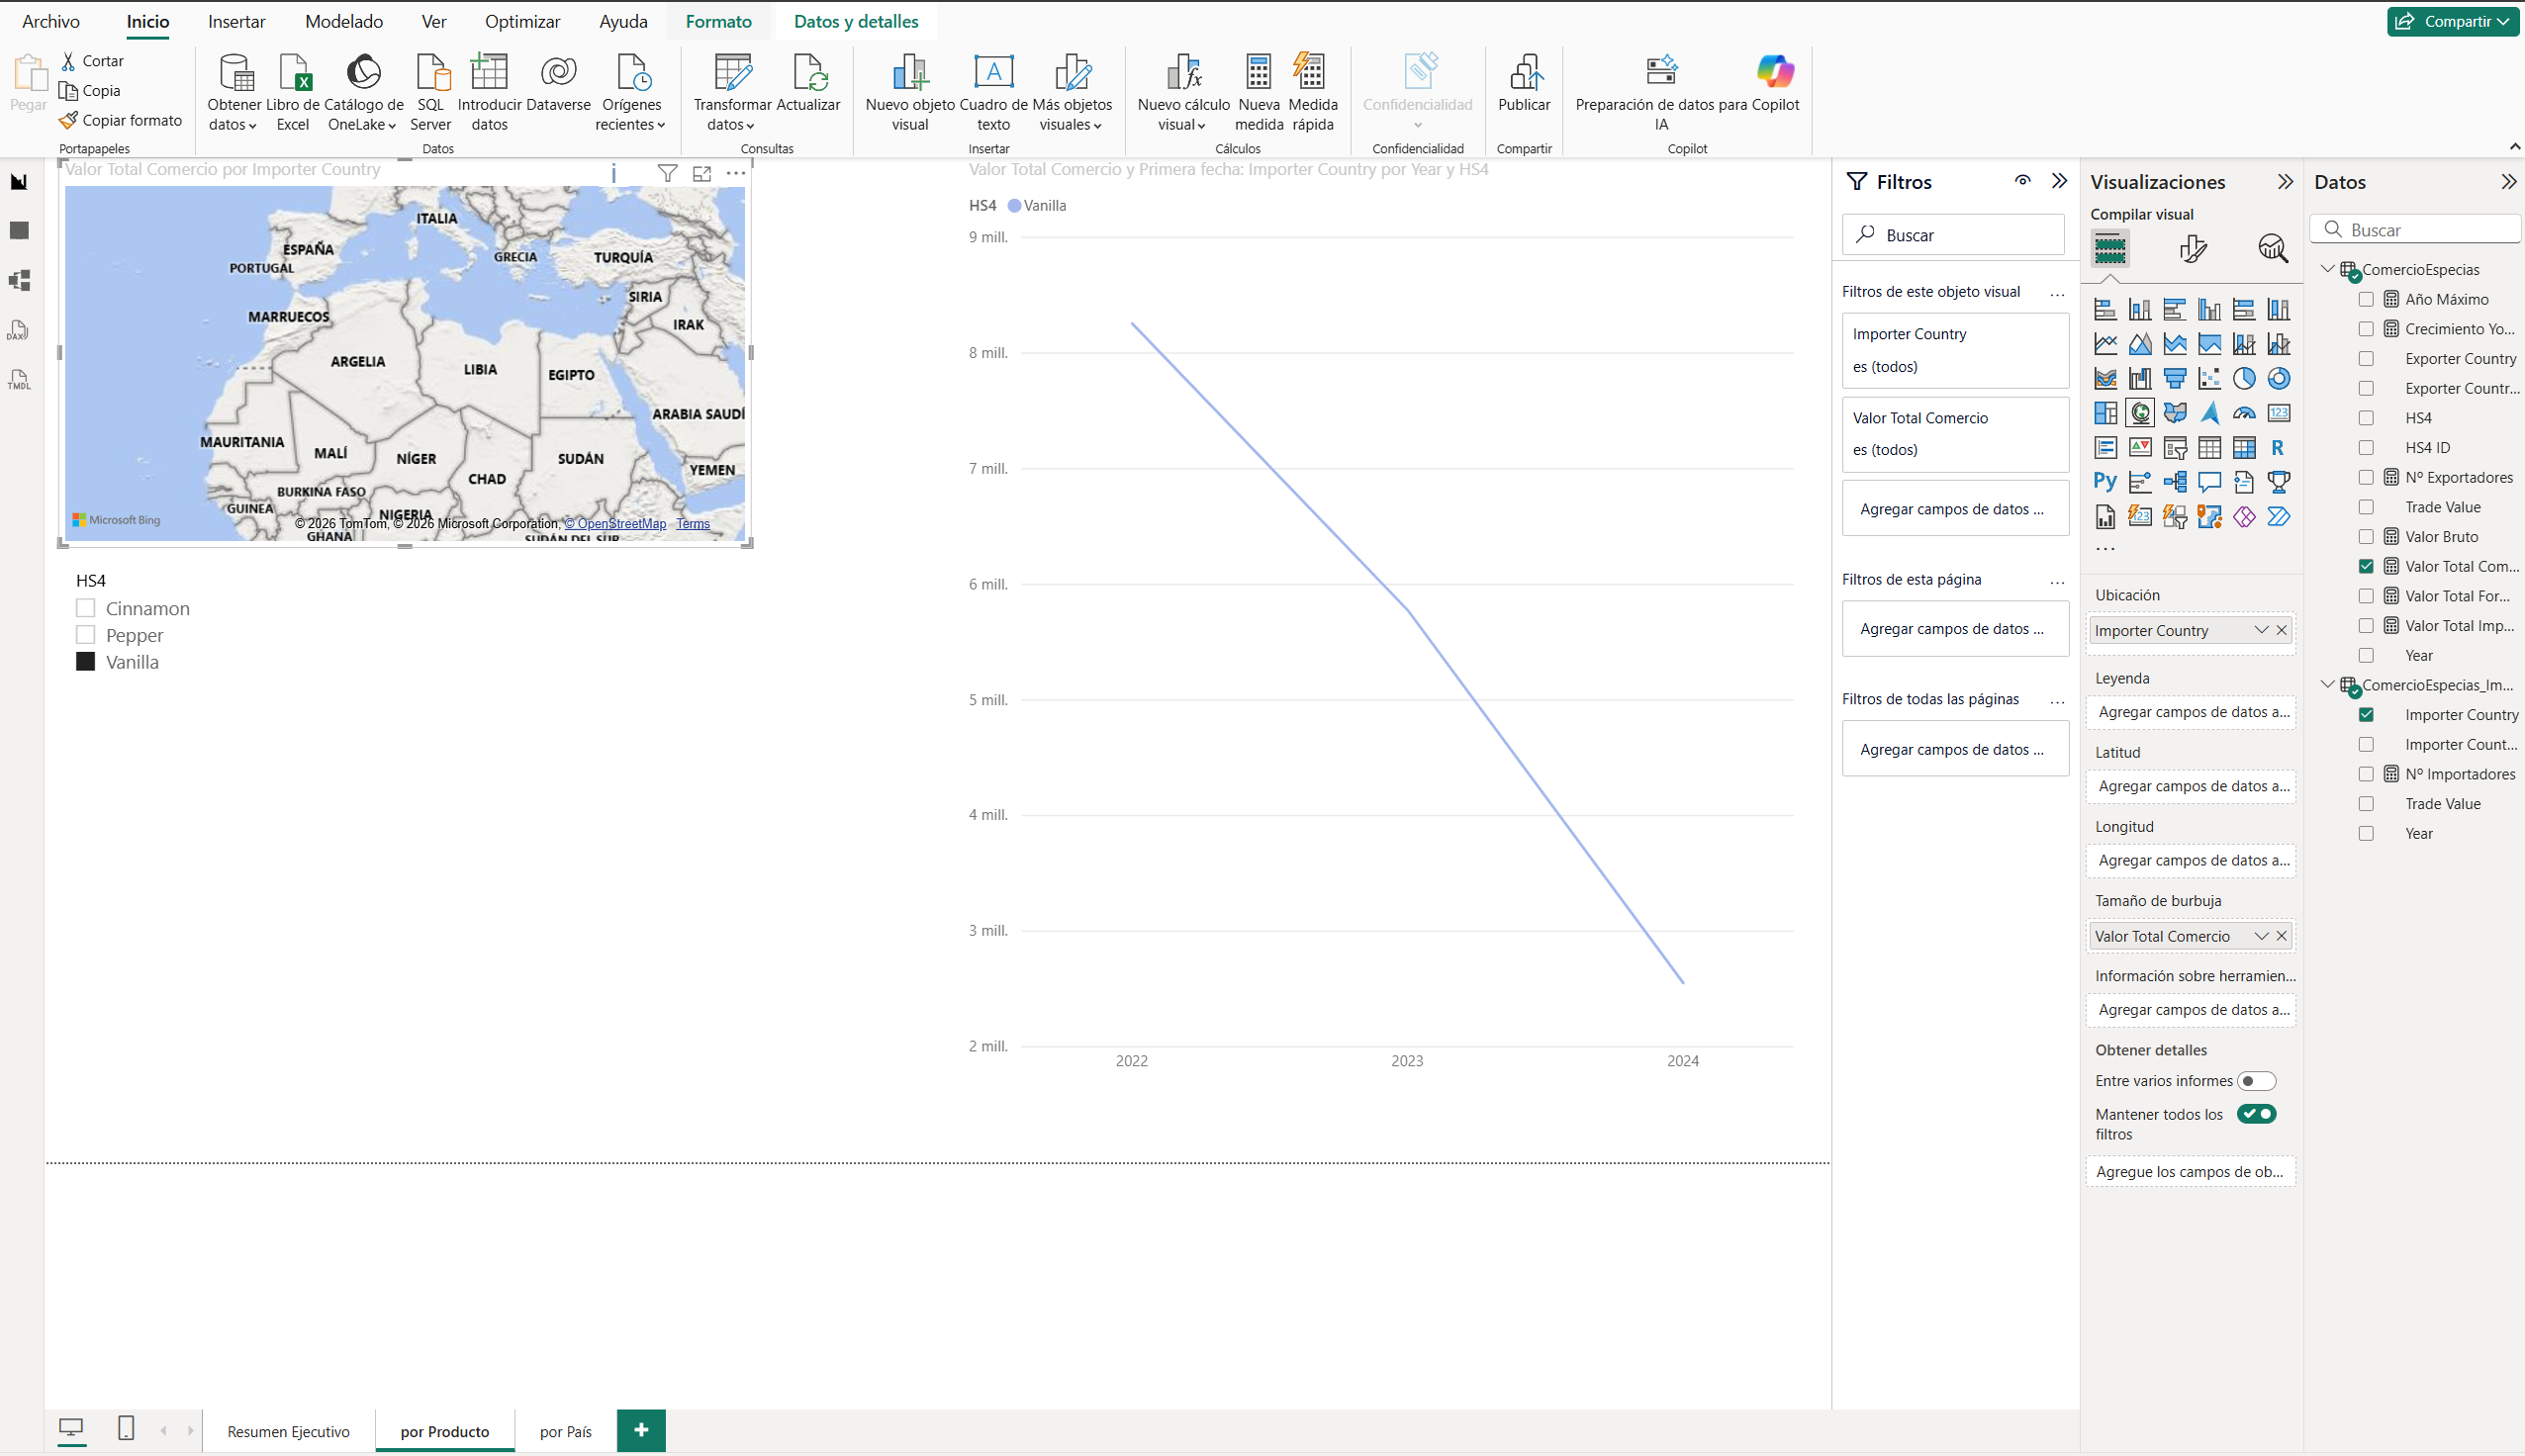

What the dashboard file says about the page in this screenshot:
{"tool":"powerbi","page":{"name":"por Producto","canvas":[1280,720],"ordinal":1},"visuals":[{"type":"map","fields":{"Category":["ComercioEspecias_Import (2).Importer Country"],"Size":["ComercioEspecias.Valor Total Comercio"]},"box":[9.7,0,497.2,279.6],"z":0},{"type":"slicer","fields":{"Values":["ComercioEspecias.HS4"]},"box":[10.1,290,630.3,326.2],"z":1000},{"type":"lineChart","fields":{"Category":["ComercioEspecias.Year"],"Y":["ComercioEspecias.Valor Total Comercio"],"Series":["ComercioEspecias.HS4"]},"box":[657.8,0,600.7,664.6],"z":2000}]}

Visuals, with their boxes on the page's 1280x720 design canvas (x1, y1, x2, y2). These are canvas units, not pixel positions in the 2525x1456 screenshot, which may show the page scaled, cropped or inside an application window:
map - ComercioEspecias_Import (2).Importer Country x ComercioEspecias.Valor Total Comercio: bbox=[10, 0, 507, 280]
slicer - ComercioEspecias.HS4: bbox=[10, 290, 640, 616]
lineChart - ComercioEspecias.Year x ComercioEspecias.Valor Total Comercio: bbox=[658, 0, 1258, 665]
